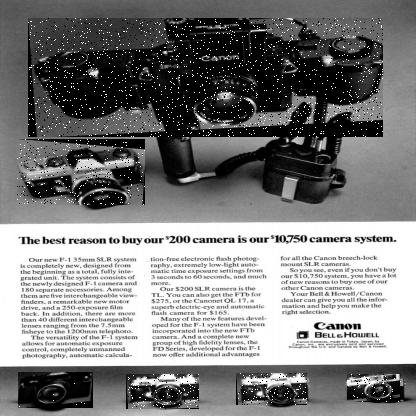Camera: (29, 19, 385, 139), (18, 140, 147, 207), (20, 373, 96, 410), (127, 375, 201, 411), (237, 374, 309, 407), (349, 375, 405, 404)
